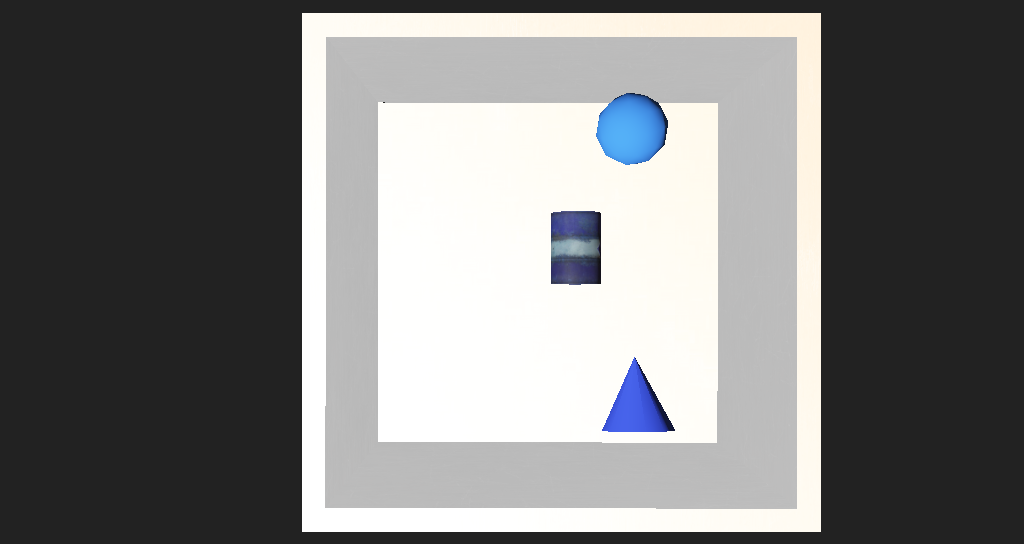cone: (509, 229, 556, 277)
cylinder: (552, 317, 620, 379)
sphere: (549, 160, 610, 203)
